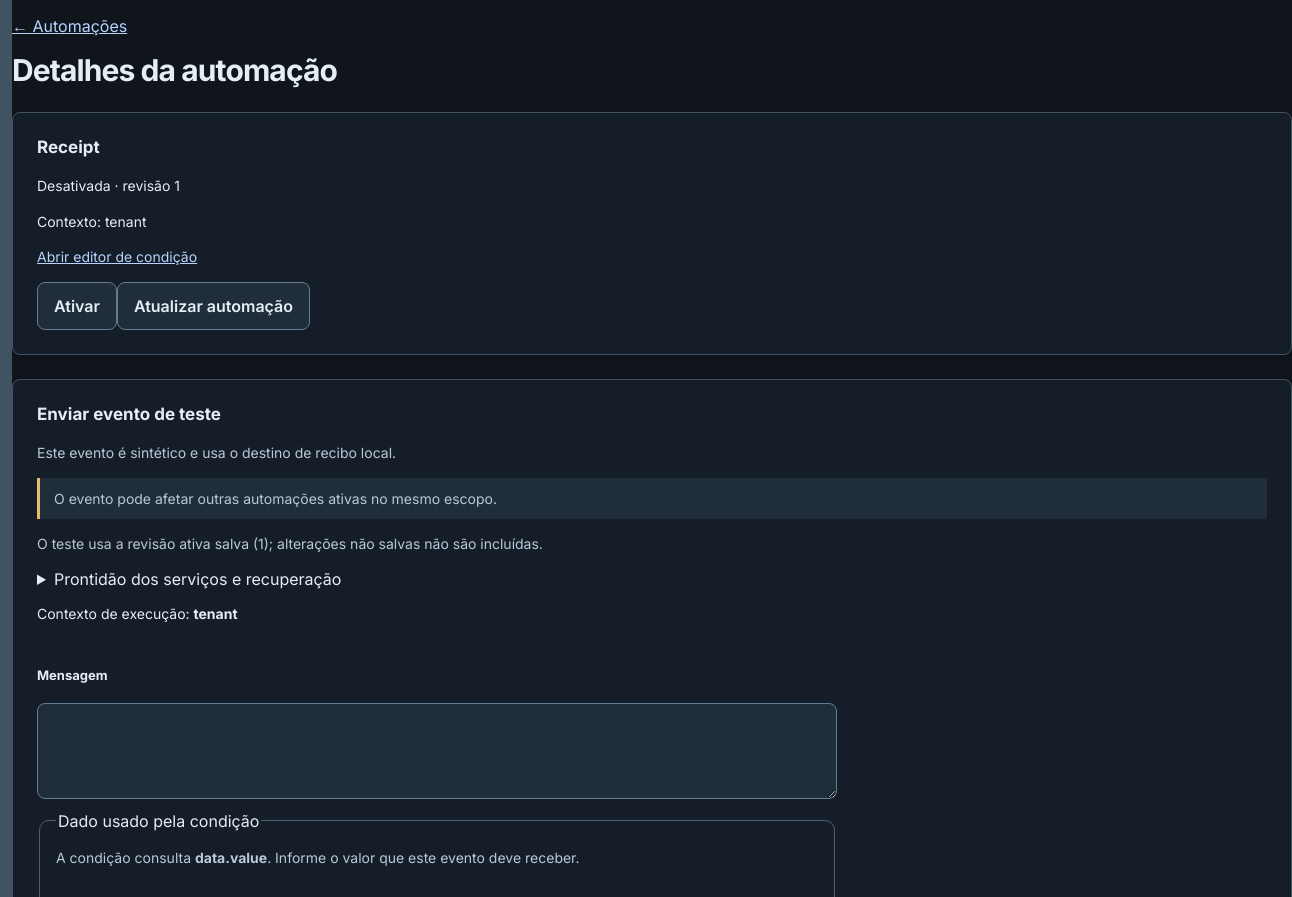
Test: automation screens › activates a saved condition graph and displays a disabled-writes rejection
What coordinates should you click on to do the following:
click the button "Ativar"
I would click on:
 (77, 306)
Its box is [37,282,117,330].
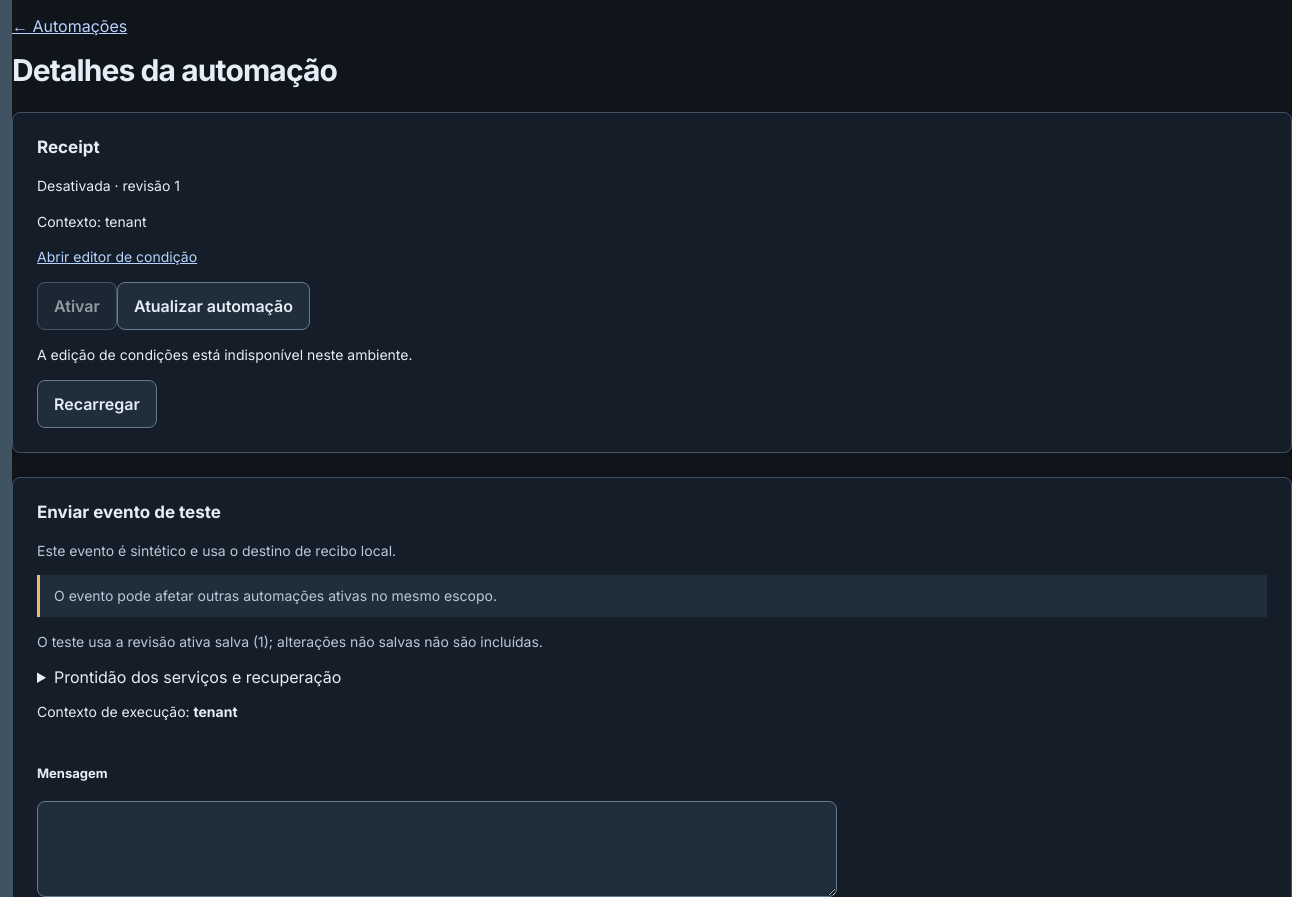
Now the message shows "edição de condições está indisponível", box [37,346,412,363]
